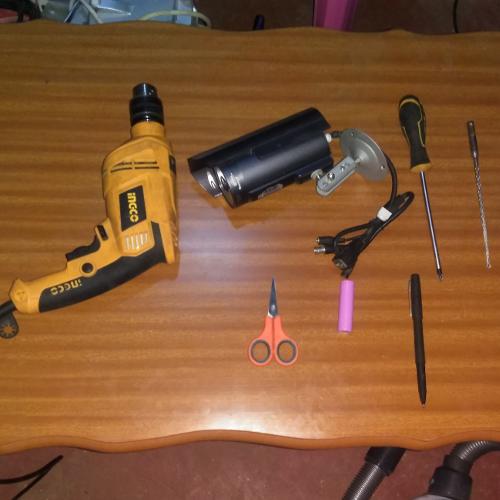cctv camera: (194, 97, 396, 214)
igco drill: (7, 65, 190, 317)
pen: (397, 269, 439, 421)
scissors: (237, 276, 309, 377)
screw driver: (390, 82, 451, 284)
